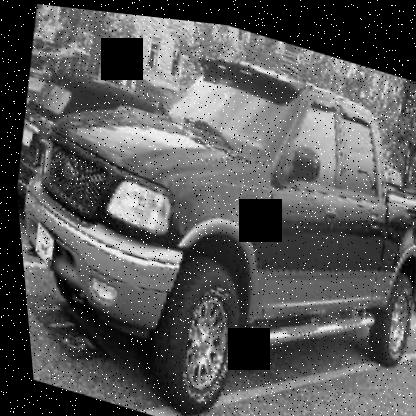not_emergency: (8, 5, 415, 415)
